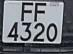0: (45, 22, 59, 43)
2: (32, 22, 46, 44)
3: (19, 21, 33, 43)
4: (6, 21, 20, 44)
F: (33, 1, 49, 24), (19, 2, 36, 23)
